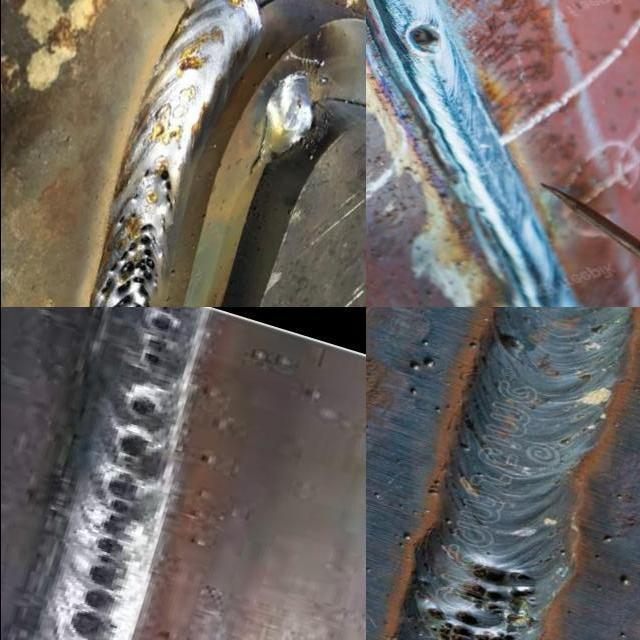defect: (65, 464, 145, 640), (96, 218, 160, 307), (462, 561, 538, 617), (425, 601, 516, 640), (135, 307, 185, 375), (111, 424, 166, 463), (118, 385, 167, 420), (402, 18, 443, 56), (157, 163, 173, 211), (131, 187, 142, 206), (140, 164, 151, 180), (160, 216, 166, 232), (118, 213, 125, 224), (130, 210, 136, 219)
